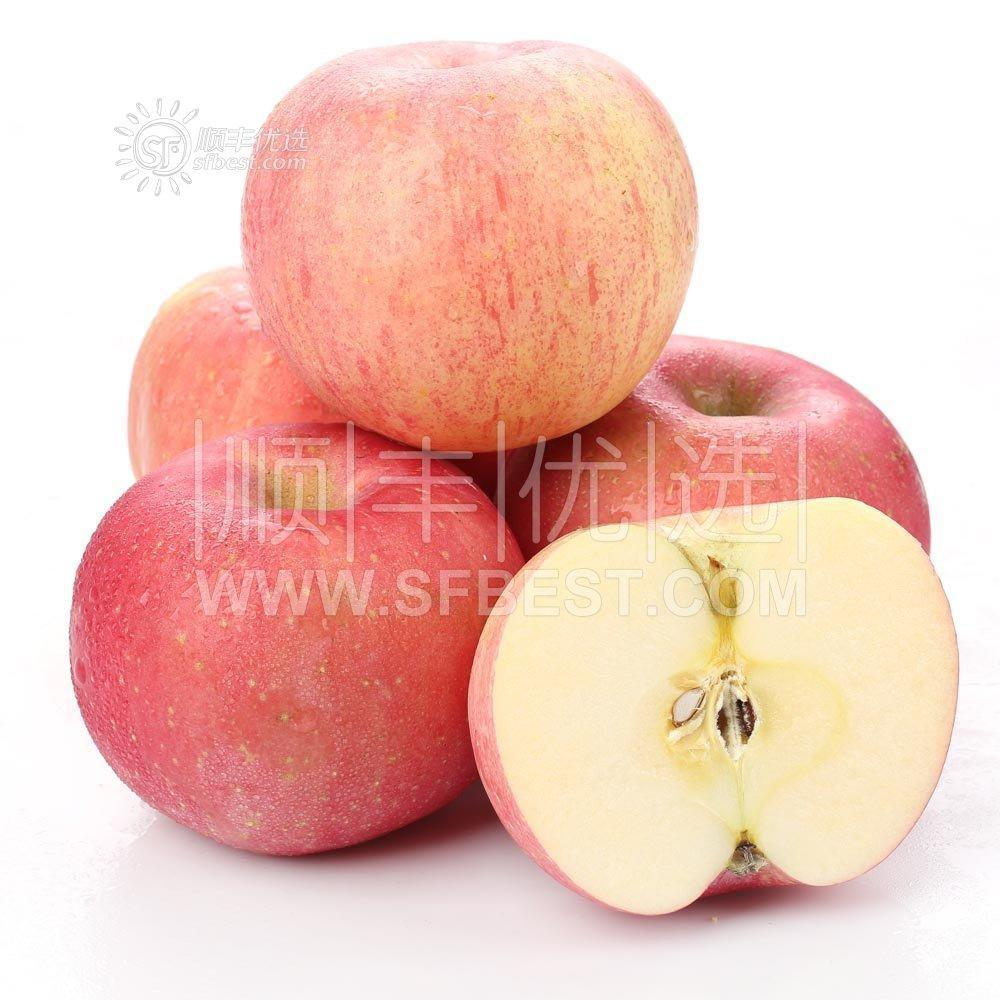apple: (236, 29, 703, 450), (69, 451, 519, 866), (583, 334, 936, 548)
